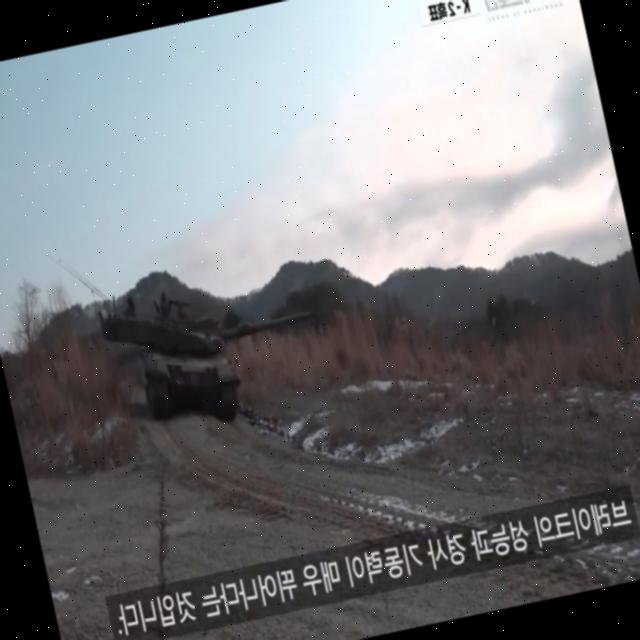korea tank: (94, 250, 330, 434)
